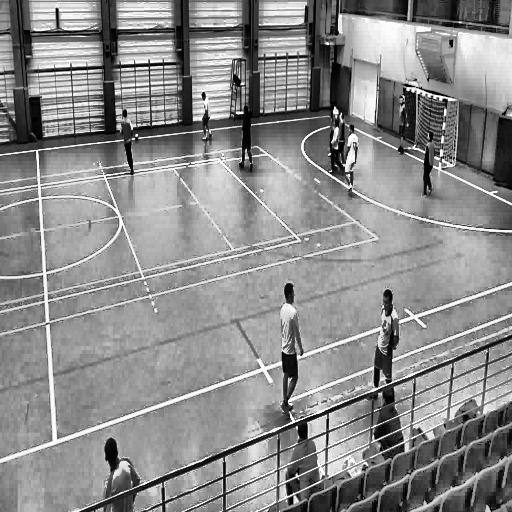ball: (133, 132, 141, 142)
player: (366, 286, 400, 401), (364, 383, 405, 470), (280, 282, 304, 422), (100, 434, 141, 512), (285, 419, 319, 504), (238, 101, 255, 174), (343, 124, 359, 200), (422, 129, 438, 204), (120, 103, 135, 177), (395, 93, 410, 157), (330, 120, 344, 177), (200, 89, 214, 145), (334, 111, 346, 172), (328, 98, 339, 156)
